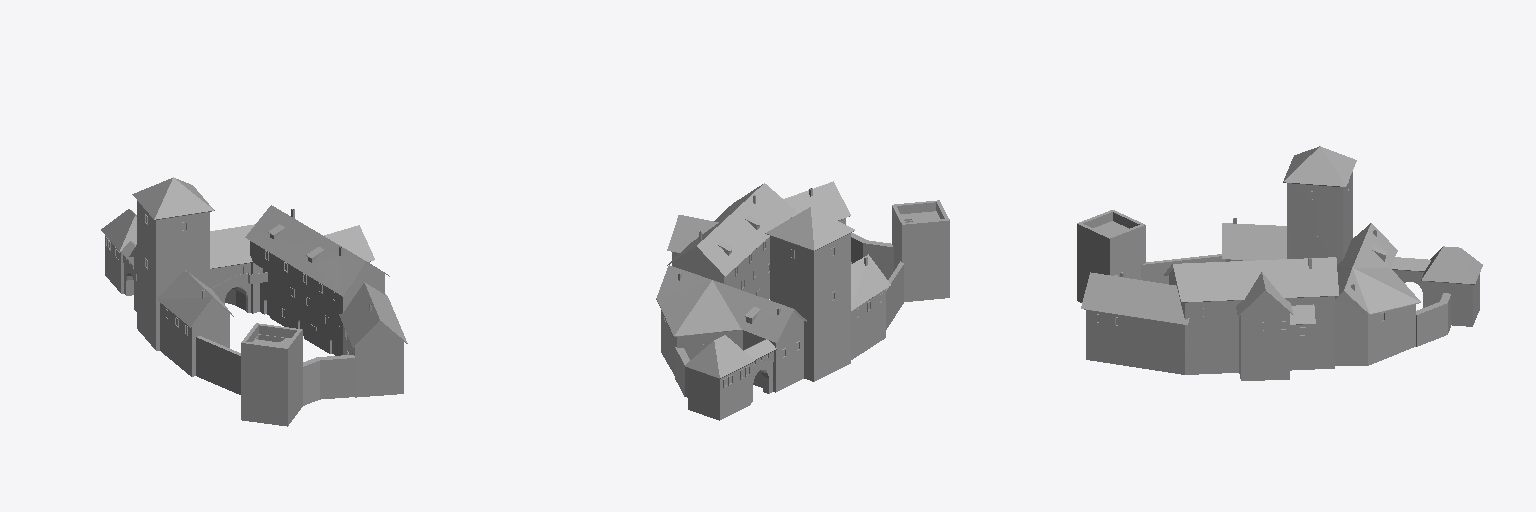
Rendered from TRH8YHT4JUL6NCO554F9LB1I2.obj.
3 renders of one model, left to right at view 1: azimuth 30°, elevation 25°; view 2: azimuth 150°, elevation 25°; view 3: azimuth 270°, elevation 25°, orthographic.
Parts seen in each view (by area): view 1: Object_castle_tex.jpg; view 2: Object_castle_tex.jpg; view 3: Object_castle_tex.jpg.
Boxes of the visible parts, x1=… form: Object_castle_tex.jpg: x1=101, y1=177, x2=407, y2=426; Object_castle_tex.jpg: x1=656, y1=181, x2=949, y2=420; Object_castle_tex.jpg: x1=1077, y1=146, x2=1482, y2=380.
Bounding box in the file's own units: 1.4 × 1.07 × 2.5.